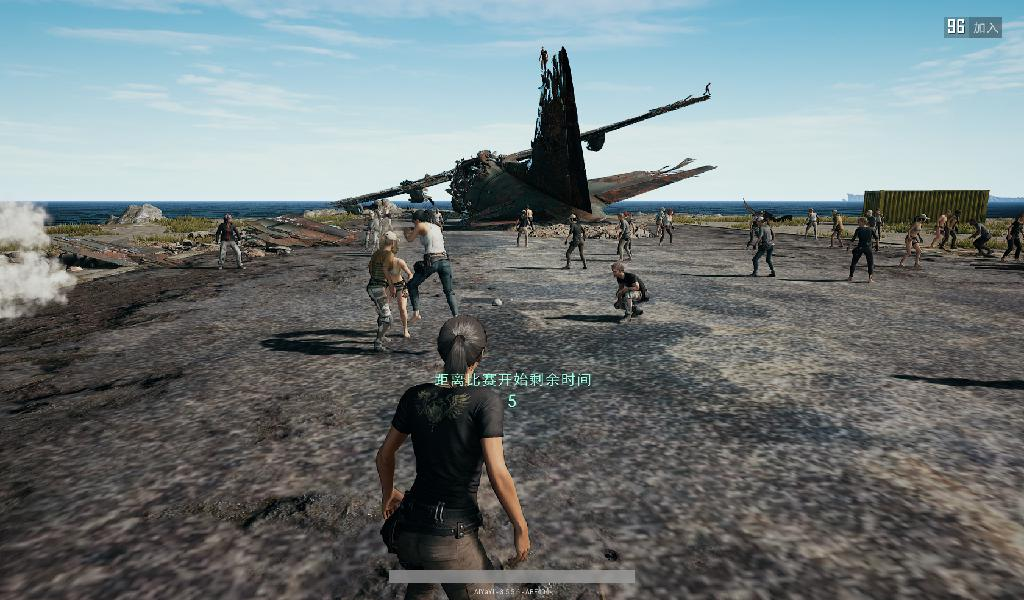Target Person: (373, 315, 534, 600), (402, 210, 465, 327), (367, 229, 395, 354), (608, 261, 652, 322), (845, 217, 875, 286), (213, 211, 246, 272), (900, 211, 929, 271), (751, 216, 777, 280), (563, 212, 587, 273), (967, 215, 994, 259), (613, 210, 632, 265), (829, 206, 846, 250), (802, 204, 819, 244), (659, 209, 675, 246), (515, 208, 529, 249)
